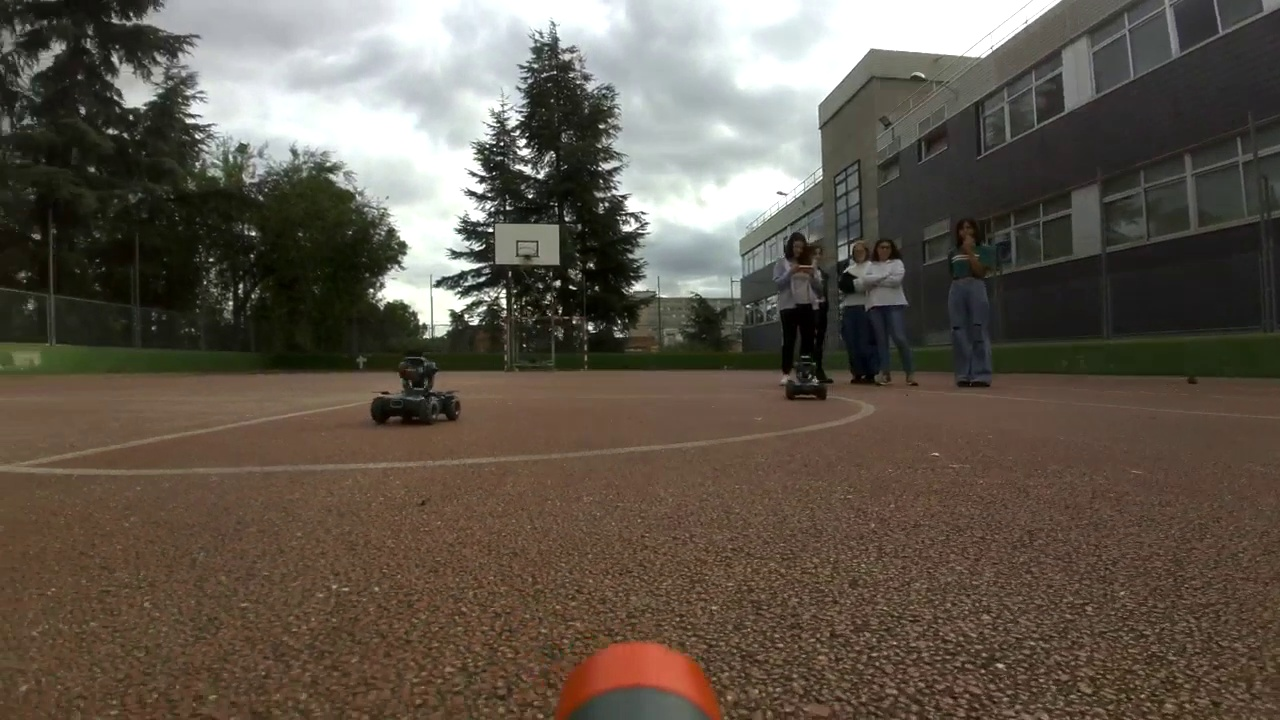robot: (372, 352, 462, 423), (788, 352, 827, 398)
